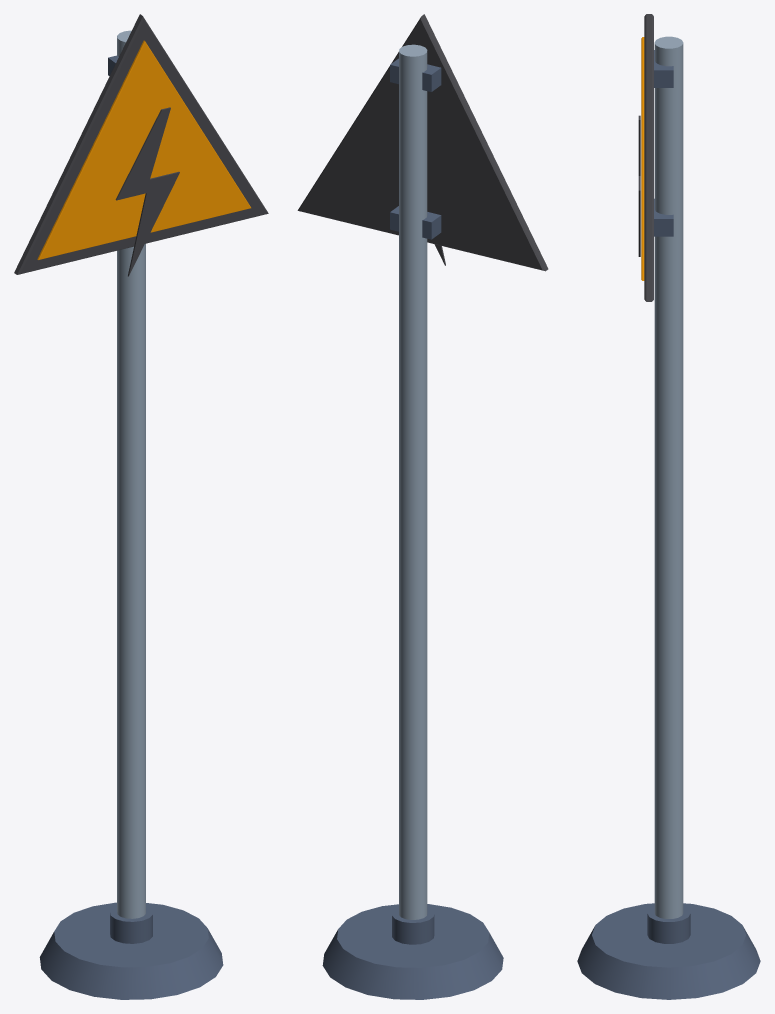
Rendered from panneau-danger-electrique.glb.
The picture shows the model from 3 angles, left to right: view 1: azimuth 30°, elevation 25°; view 2: azimuth 150°, elevation 25°; view 3: azimuth 270°, elevation 25°; orthographic projection.
Parts seen in each view (by area): view 1: poteau__bleu_pale, panneau__orange, poteau__bleu_fonce, panneau__gris_fonce; view 2: poteau__bleu_pale, panneau__gris_fonce, poteau__bleu_fonce, panneau__bleu_fonce; view 3: poteau__bleu_pale, poteau__bleu_fonce, panneau__gris_fonce, panneau__orange, panneau__bleu_fonce.
Boxes of the visible parts, x1,y1,x2,y2 form: poteau__bleu_pale: (117,30,145,918); panneau__orange: (37,40,251,259); poteau__bleu_fonce: (39,902,223,999); panneau__gris_fonce: (14,14,268,276); poteau__bleu_pale: (399,44,427,919); panneau__gris_fonce: (297,14,548,271); poteau__bleu_fonce: (322,904,503,999); panneau__bleu_fonce: (390,58,441,239); poteau__bleu_pale: (654,36,683,918); poteau__bleu_fonce: (577,903,760,999); panneau__gris_fonce: (638,14,653,301); panneau__orange: (641,37,644,280); panneau__bleu_fonce: (654,50,673,236).
Size of the model in its own units: 0.5805 by 2.1 by 0.3685.
